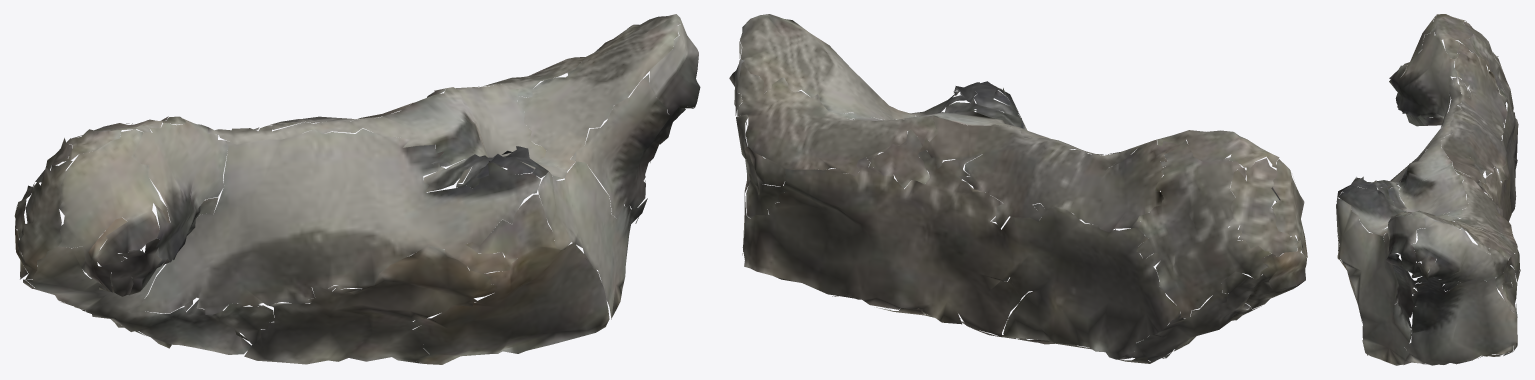
Rendered from si_trilobite.gltf.
3 views of the same model, side by side, from view 1: azimuth 30°, elevation 25°; view 2: azimuth 150°, elevation 25°; view 3: azimuth 270°, elevation 25° (orthographic). The views are drawn at different scales.
Parts seen in each view (by area): view 1: mesh_0; view 2: mesh_0; view 3: mesh_0.
Boxes of the visible parts, bbox=[...] form: mesh_0: bbox=[14, 14, 700, 364]; mesh_0: bbox=[729, 14, 1307, 363]; mesh_0: bbox=[1336, 14, 1520, 365].
Bounding box in the file's own units: 0.2547 × 0.1078 × 0.0877.
1 material, 1 textured.
